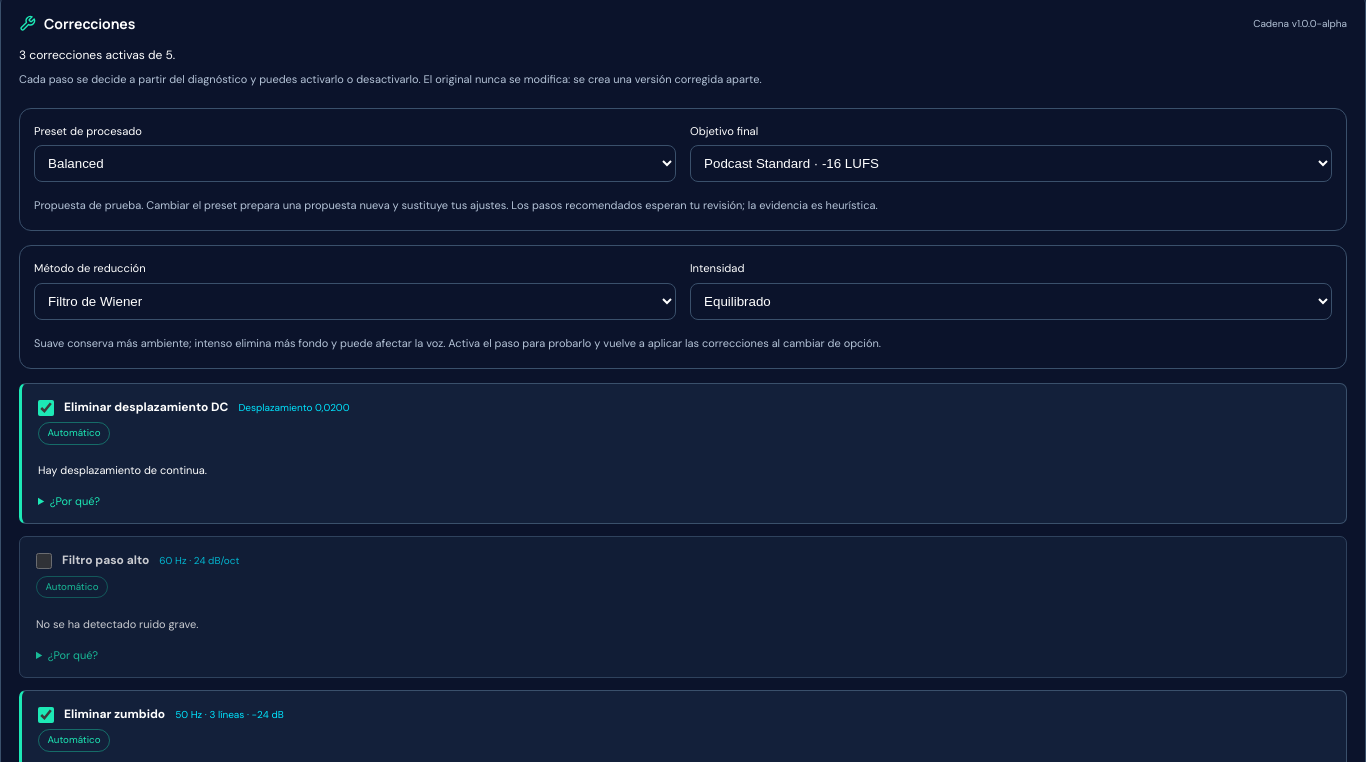
Test case: changes noise algorithm and intensity without editing DSP parameters
Select "Puerta espectral" in the dropdown labelled "Método de reducción": (355, 301) [34, 283, 676, 320]
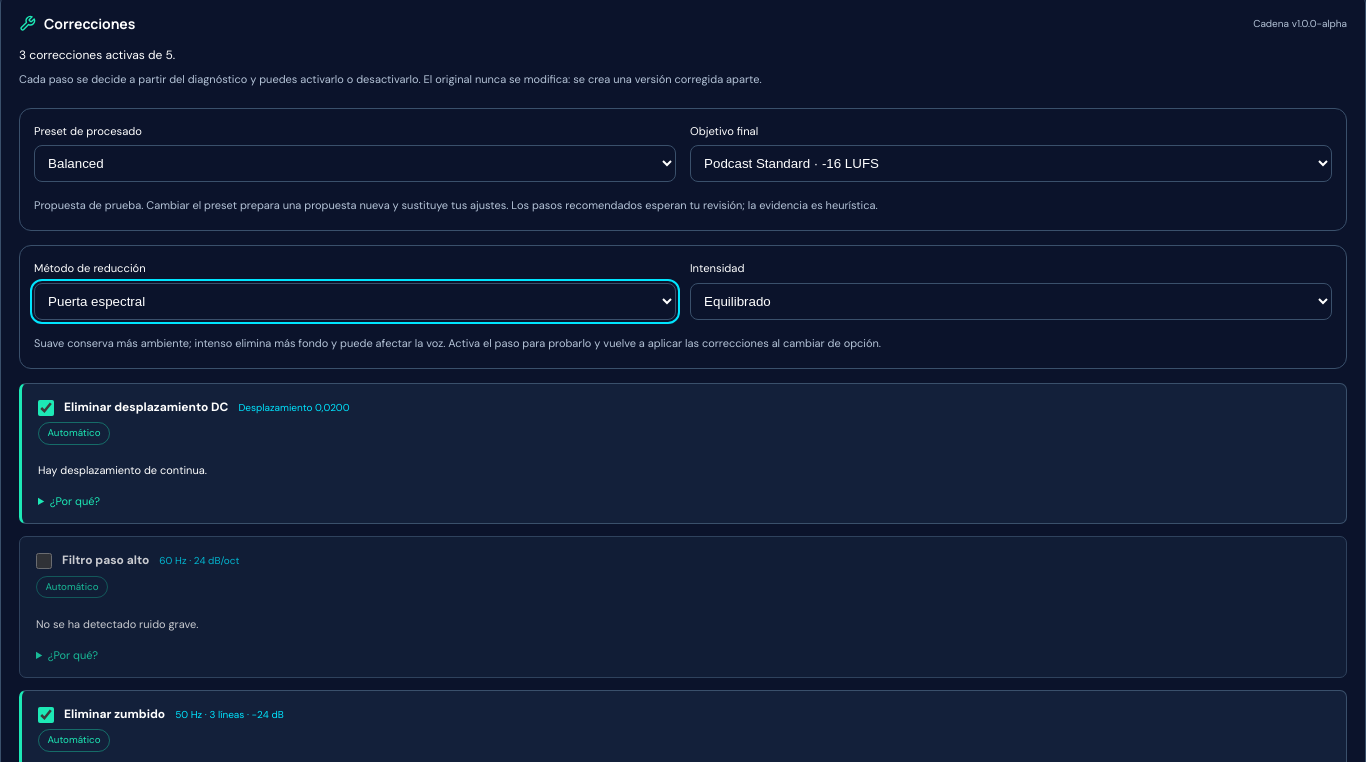
Select "Intenso" in the dropdown named "Intensidad de reducción": (1011, 301) [690, 283, 1332, 320]
(page scrolled)
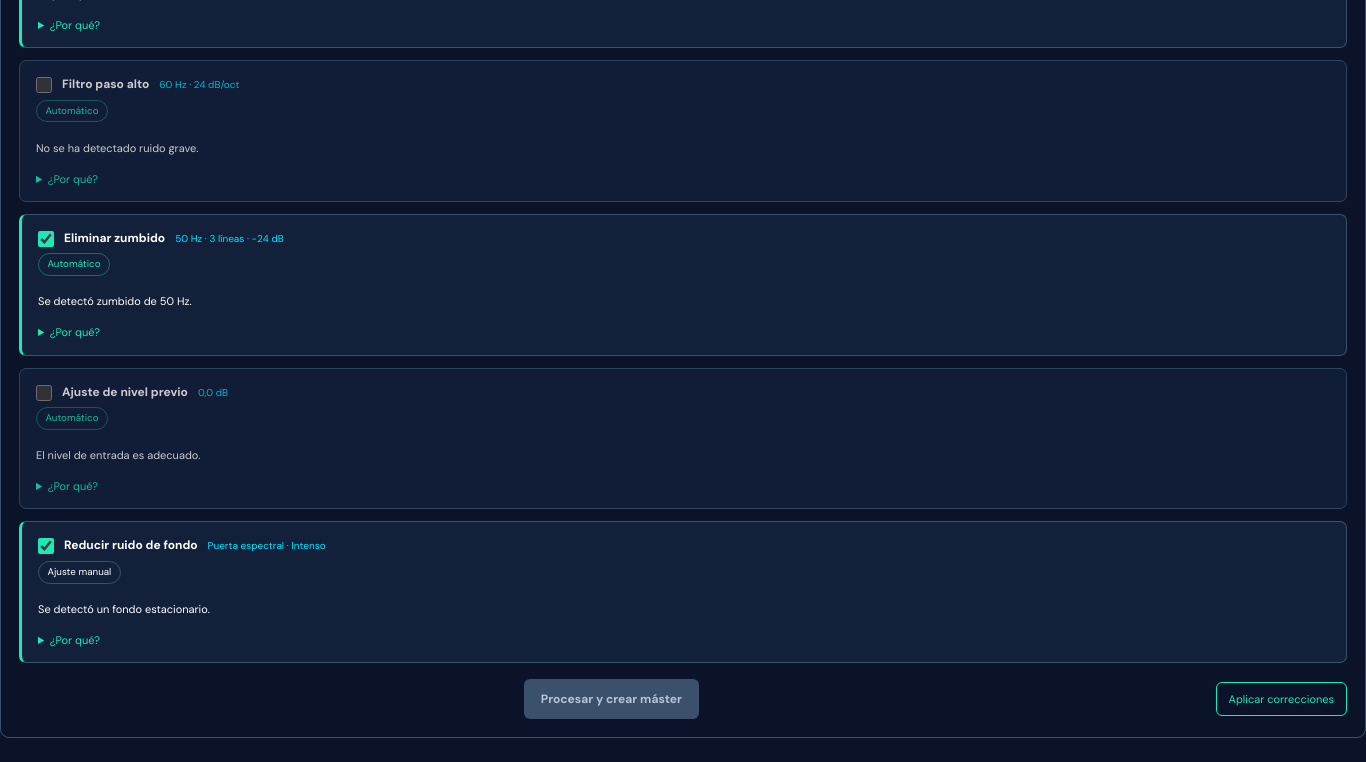
Click the button "Aplicar correcciones": click(1281, 699) [1216, 682, 1347, 716]
(page scrolled)
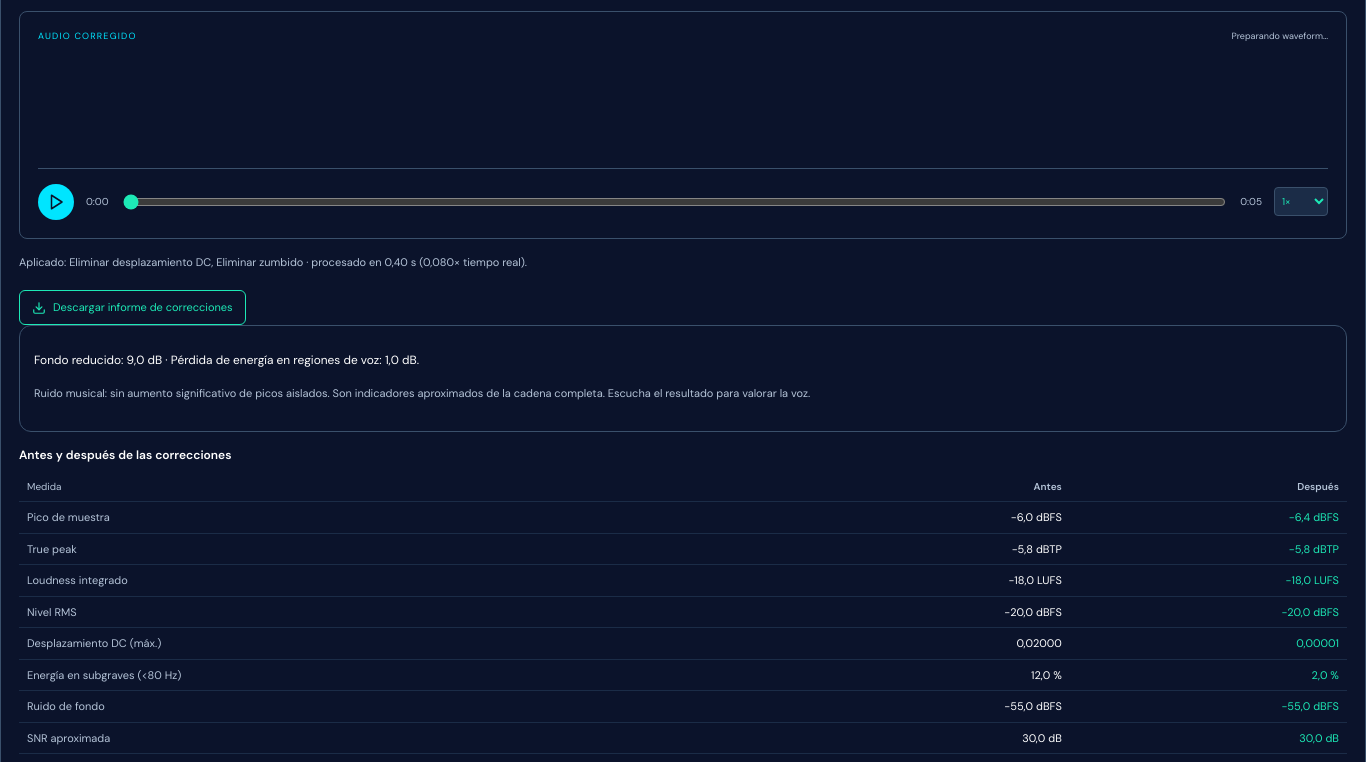
Now the element named "Comprobaciones de reducción de ruido" shows "Fondo reducido: 9,0 dB", box [19, 325, 1347, 432]
